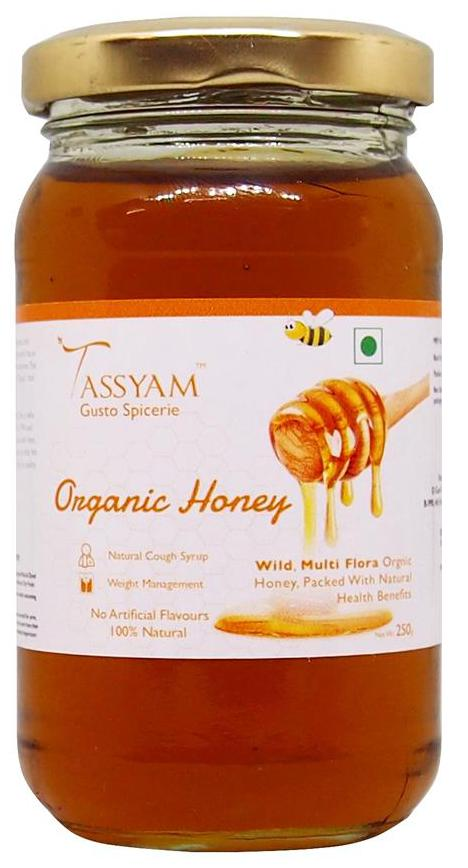JAR: (6, 10, 451, 858)
